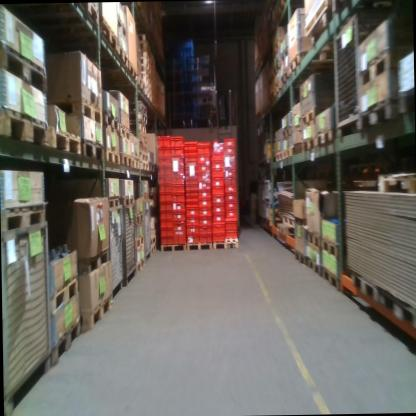pallet: (6, 2, 101, 32), (0, 41, 48, 96), (354, 47, 411, 85), (49, 313, 84, 372), (0, 109, 49, 149), (343, 263, 381, 310), (354, 97, 401, 133), (81, 288, 114, 335), (382, 290, 416, 333), (44, 122, 81, 160), (1, 205, 47, 234), (51, 274, 80, 316), (308, 11, 334, 52), (377, 169, 414, 195), (78, 247, 111, 276), (66, 98, 100, 122), (79, 133, 105, 162), (100, 15, 117, 50), (319, 233, 339, 257), (211, 235, 239, 252), (320, 262, 339, 287), (115, 38, 129, 71), (95, 194, 122, 211), (103, 110, 121, 135), (186, 238, 212, 255), (290, 53, 309, 74), (305, 253, 322, 276), (115, 15, 129, 41), (304, 228, 320, 250), (300, 109, 323, 124), (314, 128, 333, 146), (159, 242, 186, 254), (104, 149, 120, 167), (302, 135, 317, 154), (295, 248, 309, 268), (127, 57, 136, 86), (119, 123, 132, 143), (280, 212, 295, 229), (281, 66, 291, 86), (134, 256, 145, 274), (280, 124, 292, 140), (292, 214, 307, 226), (119, 155, 131, 170), (136, 74, 145, 94), (134, 232, 145, 248), (275, 222, 288, 235), (281, 146, 293, 159), (121, 195, 134, 207), (133, 211, 144, 225), (138, 101, 147, 117), (138, 112, 148, 125), (273, 148, 282, 162), (280, 47, 289, 61), (131, 156, 140, 170), (275, 80, 282, 97), (147, 232, 156, 244), (138, 122, 146, 135), (142, 65, 150, 78), (150, 241, 157, 255), (145, 89, 152, 103), (148, 160, 156, 172), (141, 161, 150, 171), (141, 56, 150, 66), (139, 133, 147, 144), (139, 142, 147, 151), (141, 153, 149, 162), (145, 82, 151, 93), (139, 40, 147, 48), (143, 192, 150, 200), (141, 48, 148, 56), (139, 33, 145, 40), (145, 77, 150, 84)
small_load_carrier: (173, 221, 186, 243), (157, 145, 170, 158), (169, 137, 184, 148), (196, 143, 211, 154), (197, 154, 210, 166), (212, 221, 225, 233), (222, 152, 236, 163), (225, 218, 237, 230), (171, 175, 184, 186), (170, 158, 183, 169), (169, 147, 183, 157), (211, 233, 225, 243), (157, 136, 170, 146), (159, 192, 172, 202), (159, 202, 172, 212), (185, 207, 198, 217), (225, 230, 238, 240), (183, 142, 197, 151), (198, 217, 212, 226), (196, 173, 210, 182), (210, 177, 224, 186), (172, 203, 183, 214), (198, 198, 210, 208), (159, 212, 172, 221), (185, 217, 198, 226), (185, 226, 198, 235), (198, 182, 211, 191), (210, 153, 223, 162), (211, 195, 224, 204), (211, 204, 224, 213), (211, 212, 224, 221), (210, 187, 224, 195), (159, 166, 170, 176), (159, 176, 170, 186), (172, 193, 183, 203), (200, 233, 211, 243), (199, 208, 211, 217), (159, 221, 172, 229), (159, 228, 172, 236), (170, 167, 183, 175), (210, 170, 223, 178), (225, 193, 235, 203), (225, 169, 235, 179), (224, 147, 235, 156), (183, 166, 197, 173), (184, 195, 198, 202), (158, 158, 170, 166), (172, 185, 184, 193), (186, 235, 198, 243), (198, 190, 210, 198), (225, 210, 237, 218), (159, 238, 172, 245), (210, 162, 223, 169), (223, 140, 236, 147), (173, 214, 184, 222), (199, 225, 210, 233), (183, 150, 197, 156), (183, 156, 197, 162), (185, 178, 197, 185), (198, 166, 210, 173), (224, 178, 234, 186), (225, 162, 235, 170), (225, 186, 236, 193), (185, 172, 197, 178), (185, 202, 197, 208), (225, 203, 235, 210), (159, 186, 170, 192), (184, 162, 197, 167), (184, 186, 197, 191), (184, 191, 198, 195)
stillage: (1, 218, 54, 416), (332, 8, 396, 142), (105, 203, 125, 299), (122, 200, 137, 285), (142, 197, 153, 264)
